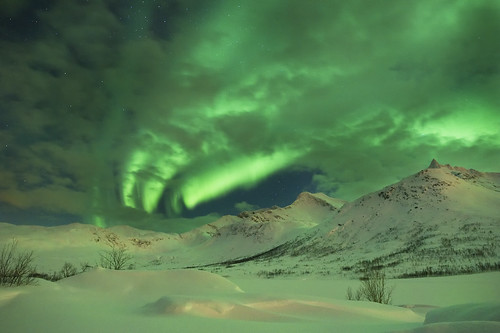mountain: (6, 165, 485, 328)
sky: (26, 1, 500, 204)
